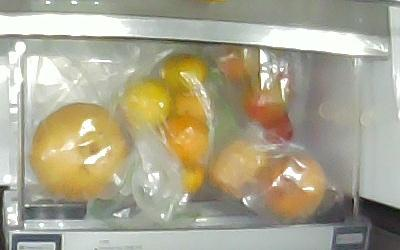peach_vinyl: (260, 157, 326, 217), (210, 138, 268, 196)
pear_vinyl: (31, 102, 127, 200)
tangerine_vinyl: (119, 80, 171, 130), (162, 115, 210, 166), (161, 54, 207, 92), (172, 91, 209, 121), (180, 166, 203, 195)
tomato_vinyl: (244, 76, 288, 126), (217, 48, 260, 79), (262, 112, 293, 146)
